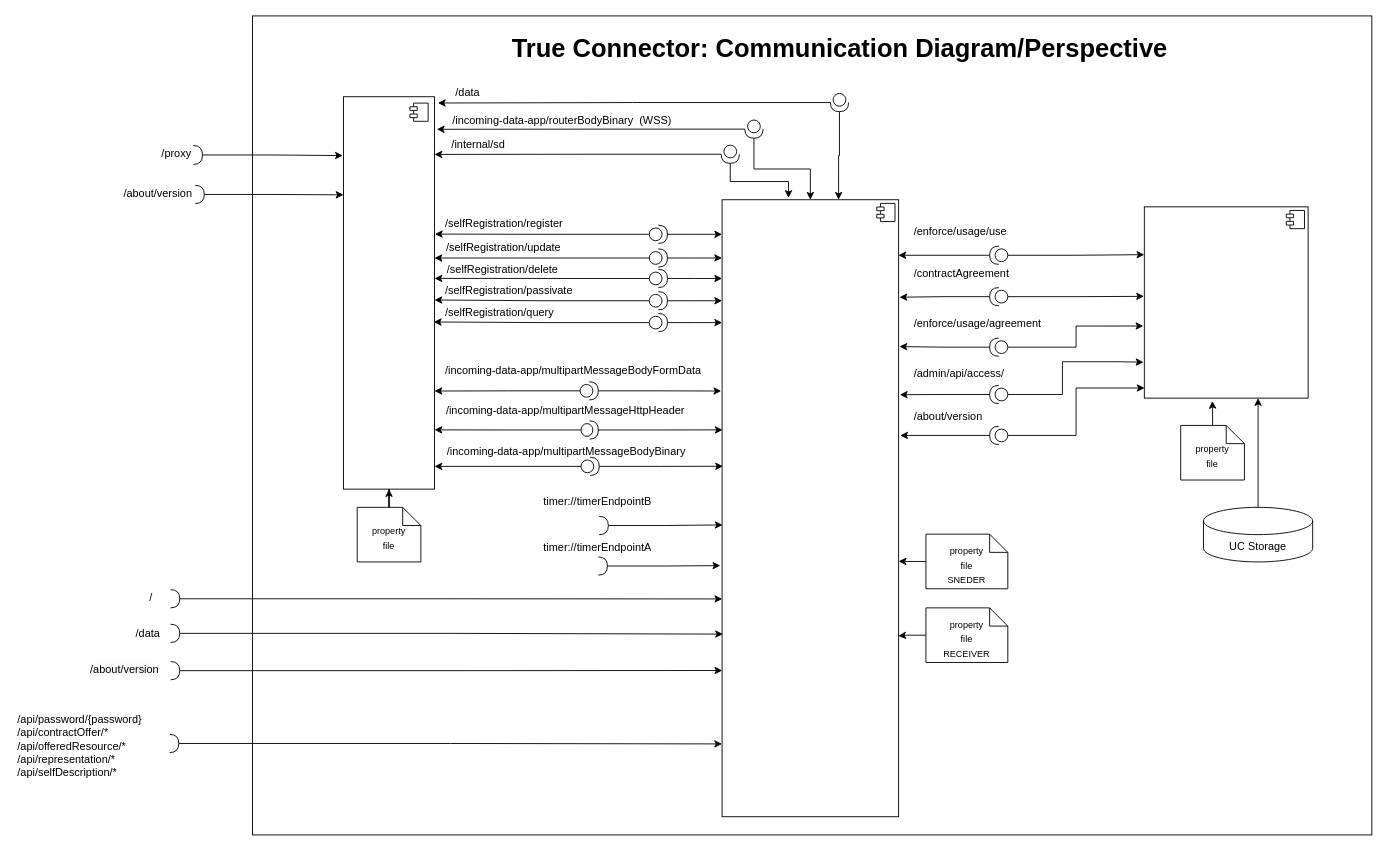
The diagram is 1388 pixels wide and 851 high, and some of its shapes have lost their labels. Here are the shapes that lost their labels. From the top down, the centre of each, then its label:
point 389,292: Basic DataApp
point 1225,302: UsageControl DataApp
point 810,508: Execution Core Container + Sender + Receiver
